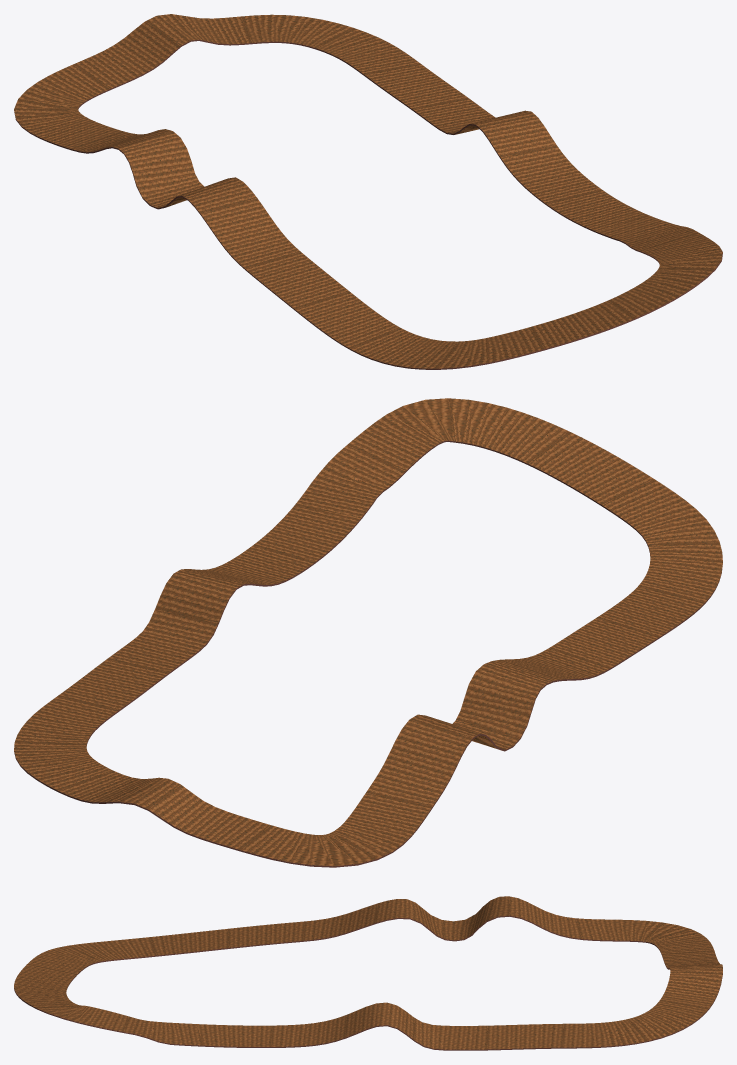
File: DirtRoadTrack.fbx
3 renders of one model, top to bottom at view 1: azimuth 30°, elevation 25°; view 2: azimuth 150°, elevation 25°; view 3: azimuth 270°, elevation 25°, orthographic. The views are drawn at different scales.
Visible parts, largest first — view 1: Cube; view 2: Cube; view 3: Cube.
Part boxes in pixels (x1,y1,x2,y2): Cube: (14, 14, 722, 369); Cube: (14, 398, 722, 867); Cube: (14, 896, 722, 1050).
Bounding box in the file's own units: 2566 × 406 × 5295.
2 materials, 1 textured.
